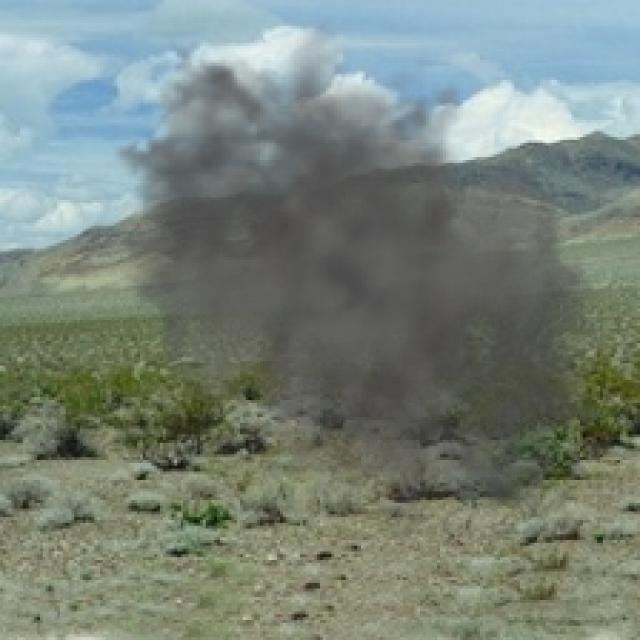Smoke: (80, 19, 637, 552)
